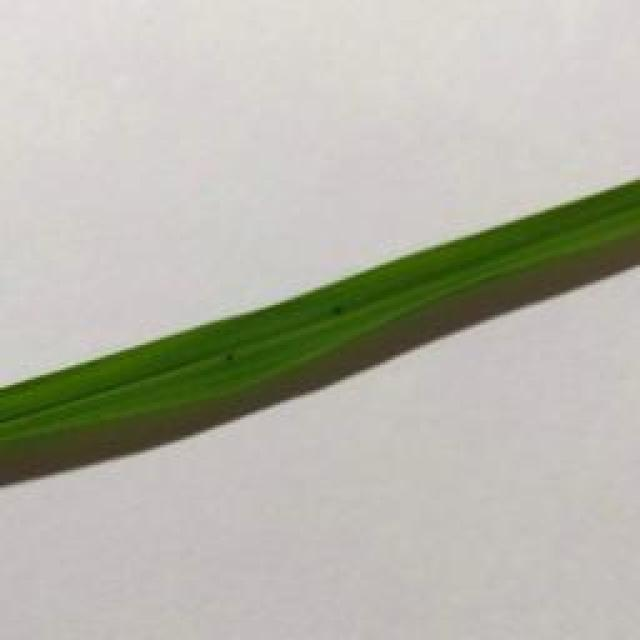Brown_Spot: (218, 344, 238, 372), (328, 311, 357, 330)
